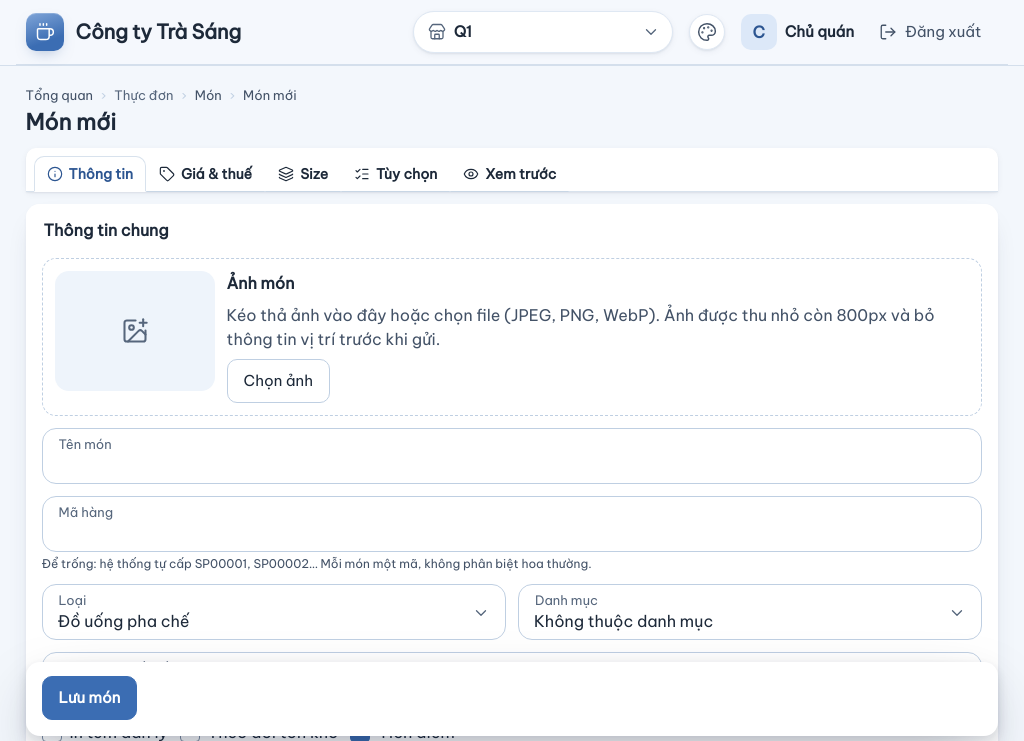
Test: the product editor › creates a product field by field and saves it once, as a new one
Expected: the dropdown named "Chi nhánh đang xem" is shown, [413,11,673,53]
Type "Trà đào" into the field labelled "Tên món".
click(512, 456); type("Trà đào")  # box [42,428,982,484]
(page scrolled)
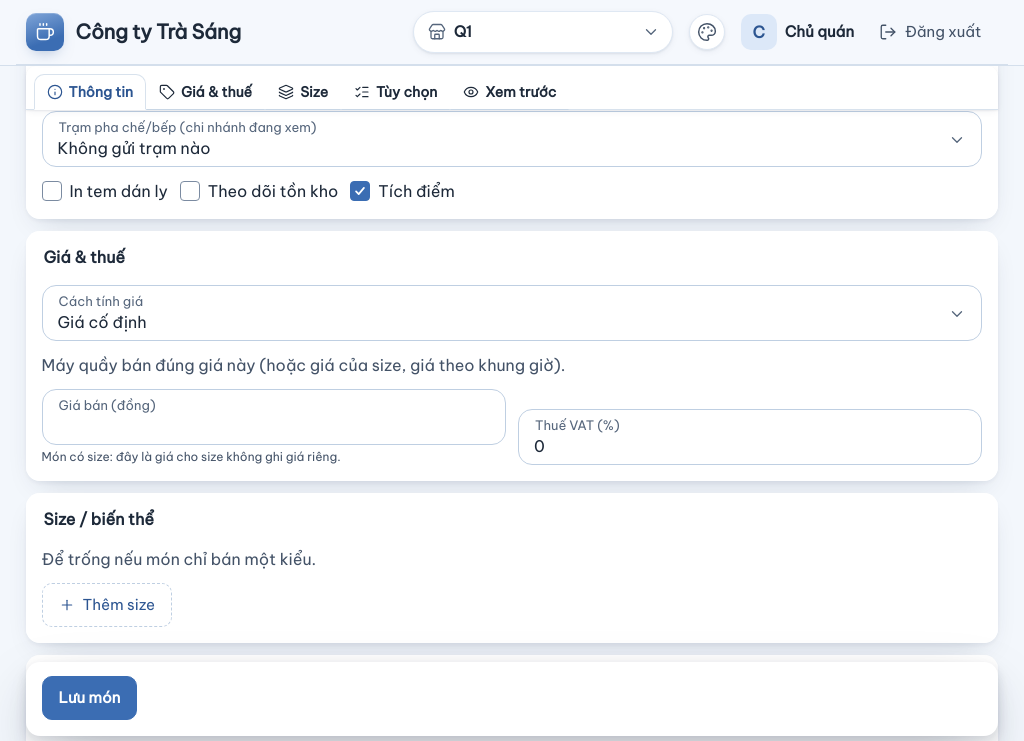
Type "35.000" into the field labelled "Giá bán (đồng)".
click(274, 417); type("35.000")  # box [42,389,506,445]
(page scrolled)
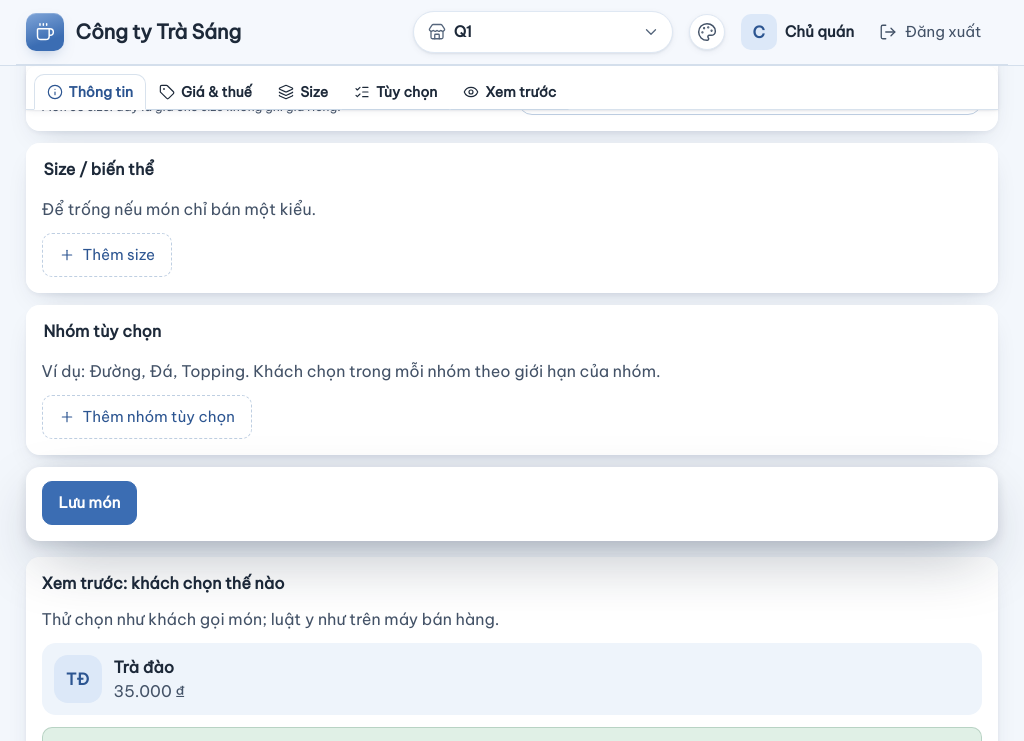
Click the button "Thêm nhóm tùy chọn".
click(147, 417)  # box [42,395,252,439]
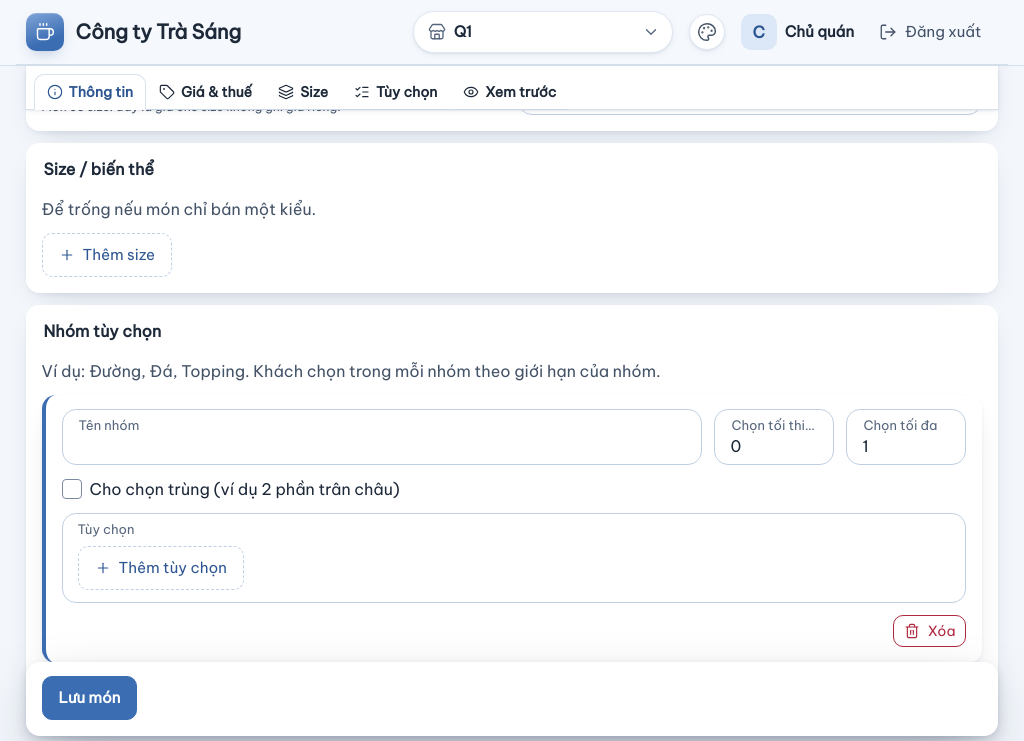
Type "Đá" into the field labelled "Tên nhóm".
click(382, 437); type("Đá")  # box [62,409,702,465]
Click the button "Thêm tùy chọn".
click(161, 568)  # box [78,546,244,590]
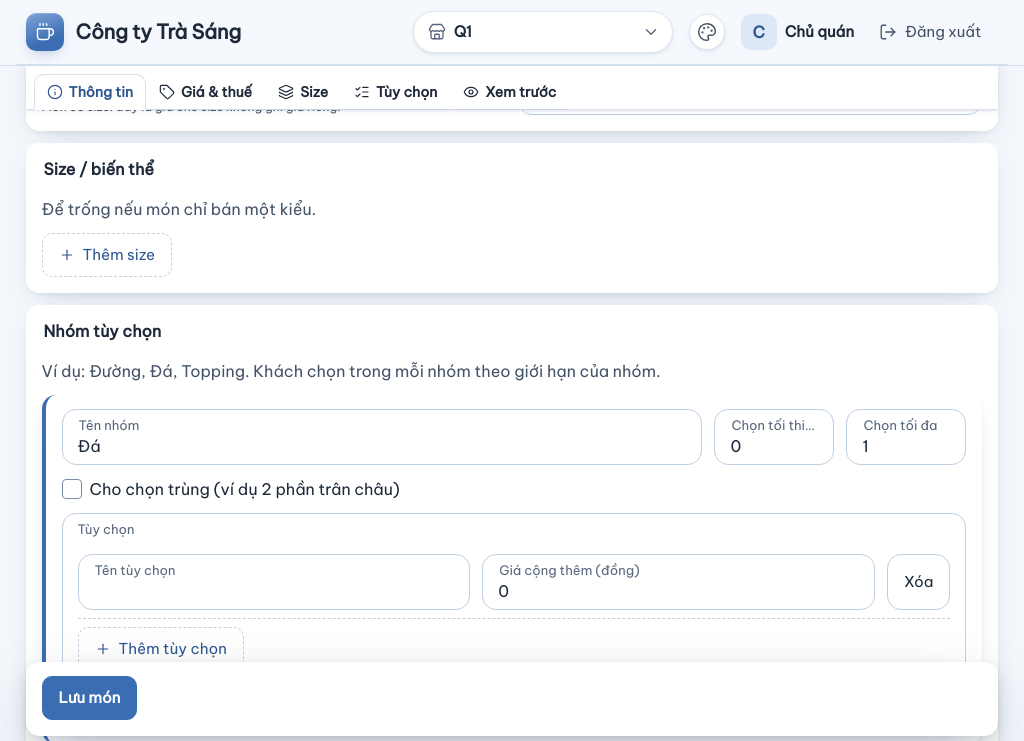
Type "Ít đá" into the field labelled "Tên tùy chọn".
click(274, 582); type("Ít đá")  # box [78,554,470,610]
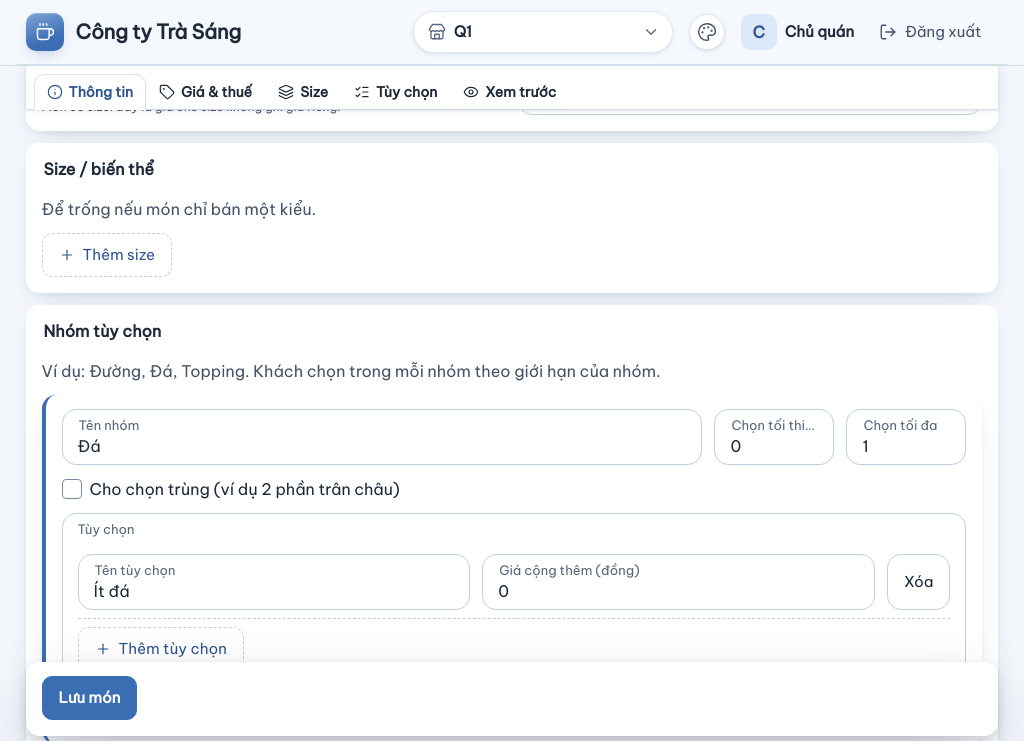
Click the button "Lưu món".
click(89, 698)  # box [42,676,137,720]
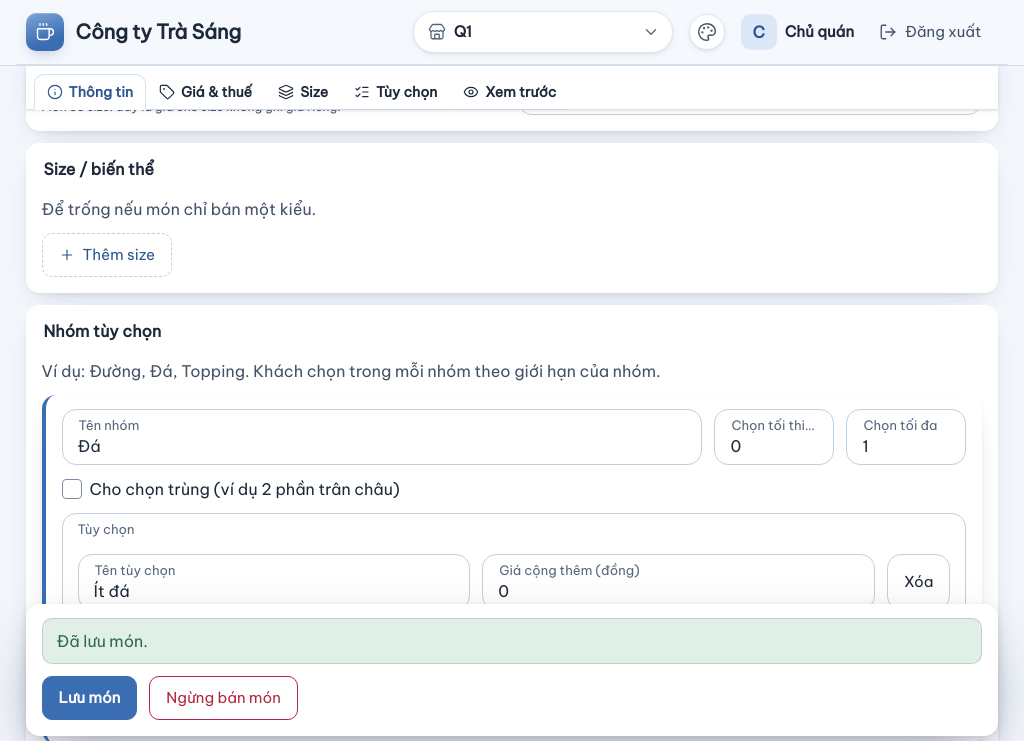
Now the text "Đã lưu món." is shown, box [42,618,982,664]
Now the button "Ngừng bán món" is shown, box [149,676,298,720]
